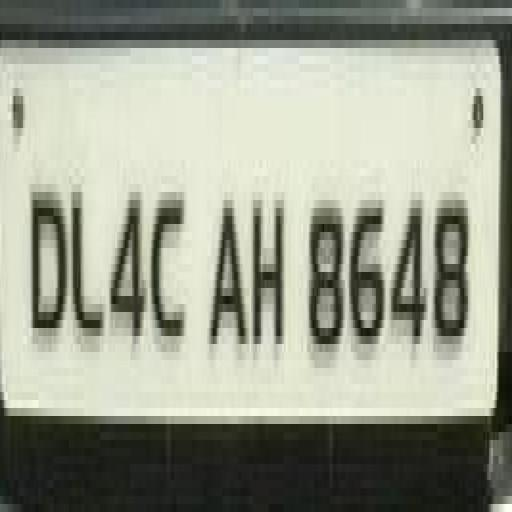number plate: (2, 8, 485, 496)
